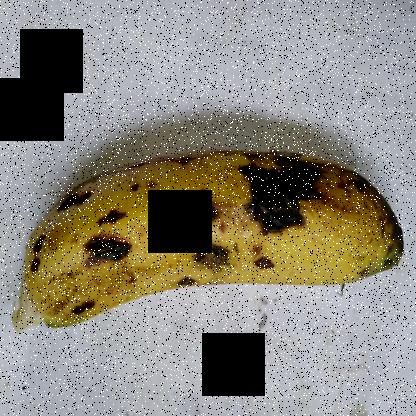ripe: (1, 126, 414, 343)
rotten: (239, 134, 341, 240), (68, 242, 144, 278), (195, 240, 244, 281), (52, 172, 96, 216), (186, 192, 225, 234), (65, 289, 102, 330), (251, 242, 280, 288), (172, 268, 212, 301), (34, 233, 52, 285), (96, 206, 131, 222)
